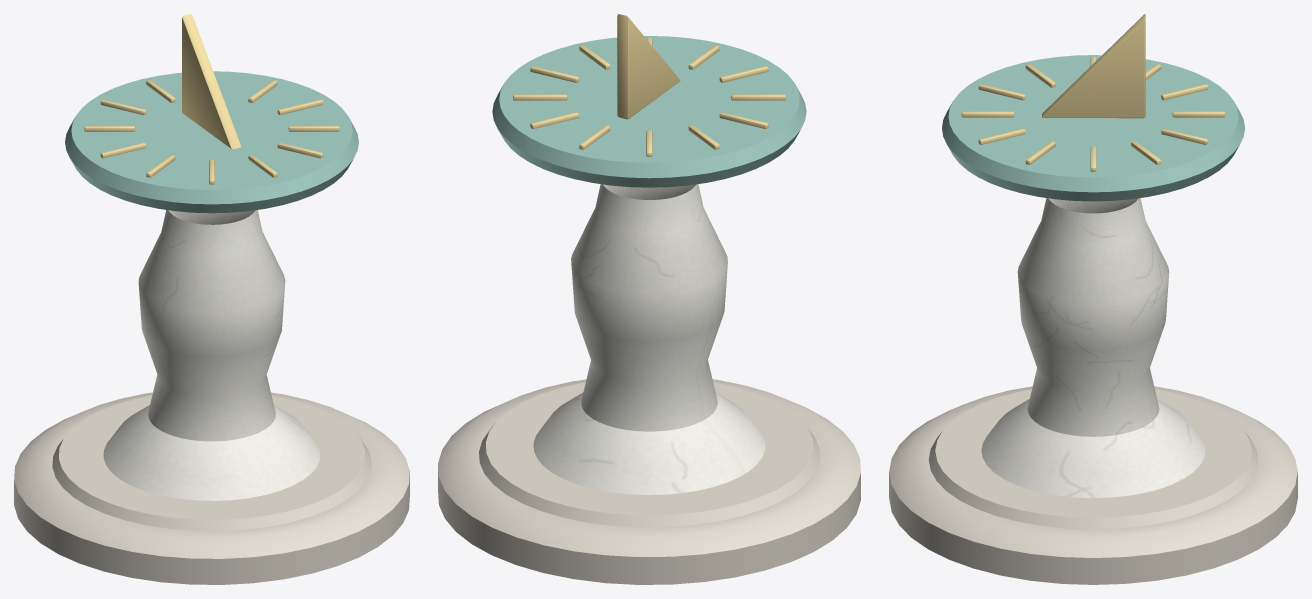
File: th35_sonnenuhr.glb
3 views of the same model, side by side, from view 1: azimuth 30°, elevation 25°; view 2: azimuth 150°, elevation 25°; view 3: azimuth 270°, elevation 25° (orthographic). The views are drawn at different scales.
Visible parts, largest first — view 1: Stufe, Saeule, Zifferblatt, Gnomon; view 2: Stufe, Saeule, Zifferblatt, Gnomon; view 3: Stufe, Saeule, Zifferblatt, Gnomon.
Boxes of the visible parts, bbox=[...] form: Stufe: bbox=[14, 392, 409, 584]; Saeule: bbox=[103, 210, 320, 500]; Zifferblatt: bbox=[65, 71, 358, 213]; Gnomon: bbox=[182, 14, 240, 149]; Stufe: bbox=[438, 379, 860, 584]; Saeule: bbox=[533, 184, 765, 494]; Zifferblatt: bbox=[492, 36, 806, 187]; Gnomon: bbox=[617, 14, 680, 119]; Stufe: bbox=[889, 386, 1297, 584]; Saeule: bbox=[981, 198, 1205, 498]; Zifferblatt: bbox=[942, 55, 1244, 201]; Gnomon: bbox=[1042, 14, 1145, 118].
Bounding box in the file's own units: 1.24 × 1.62 × 1.24.
Materials: 4 (1 with a texture image).
